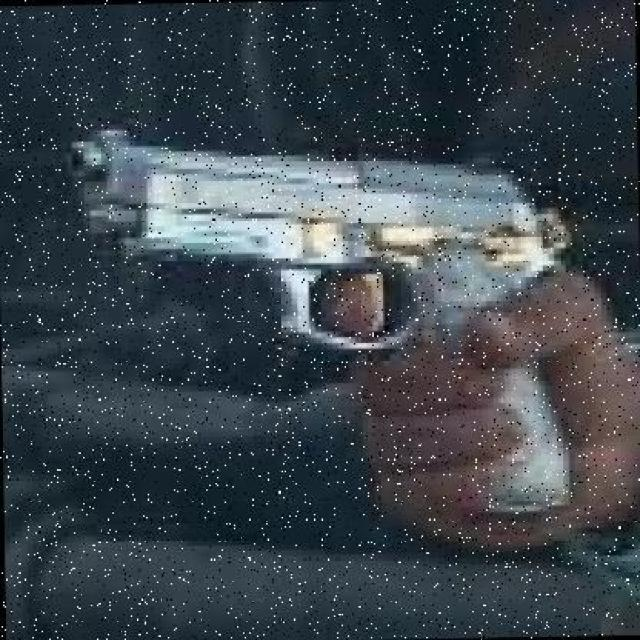rifle: (63, 122, 630, 530)
